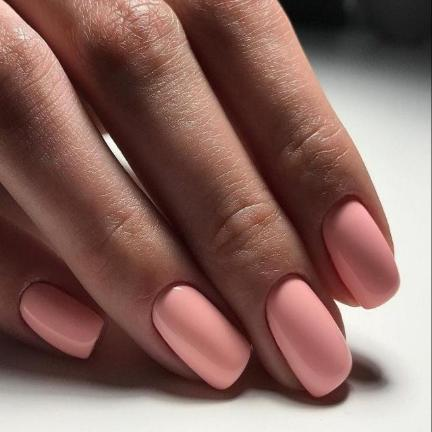Nail: (151, 283, 252, 391), (265, 275, 353, 397), (322, 197, 402, 310), (18, 281, 104, 359)
